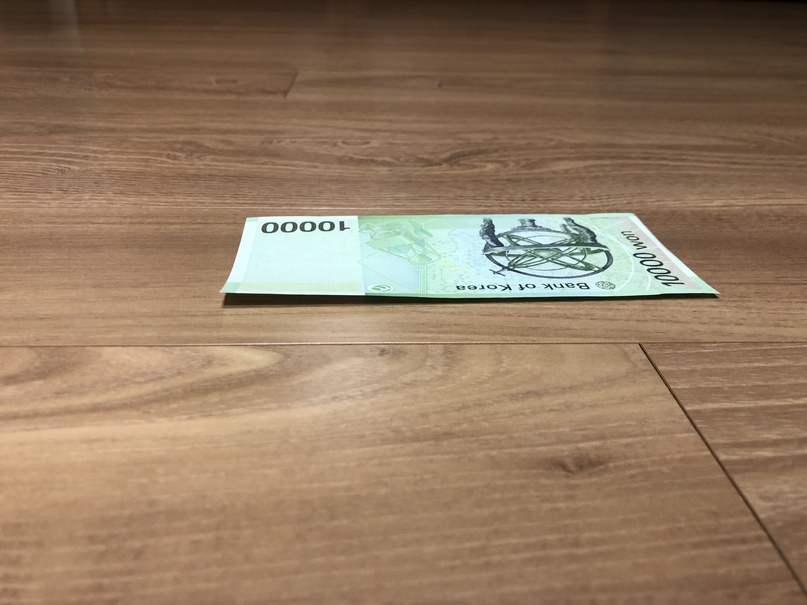10000won: (220, 211, 719, 300)
